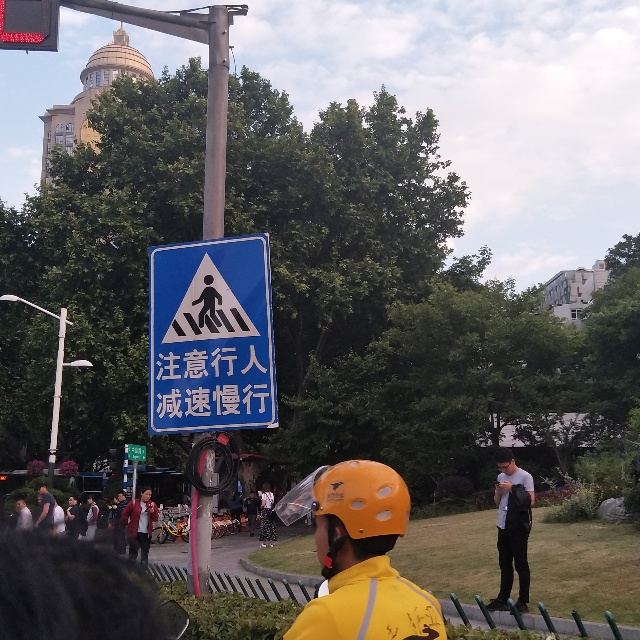crosswalk: (158, 248, 262, 352)
